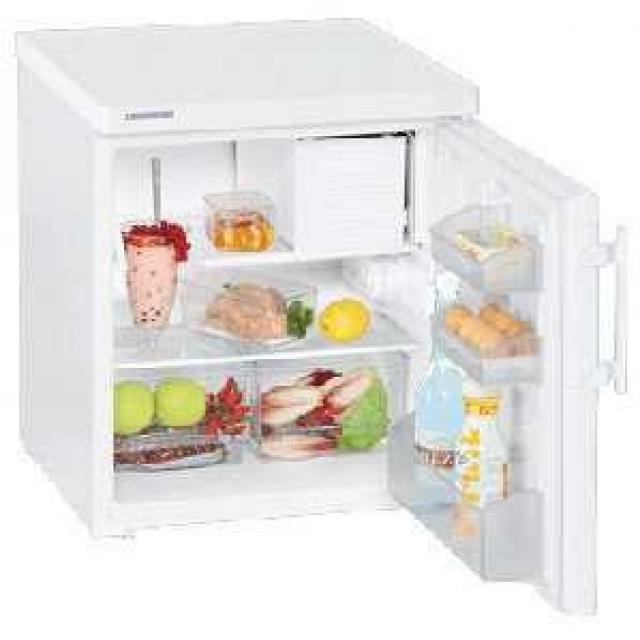refrigerator: (16, 32, 487, 512)
